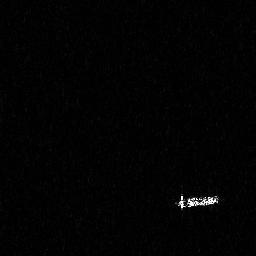ship: (172, 188, 221, 212)
